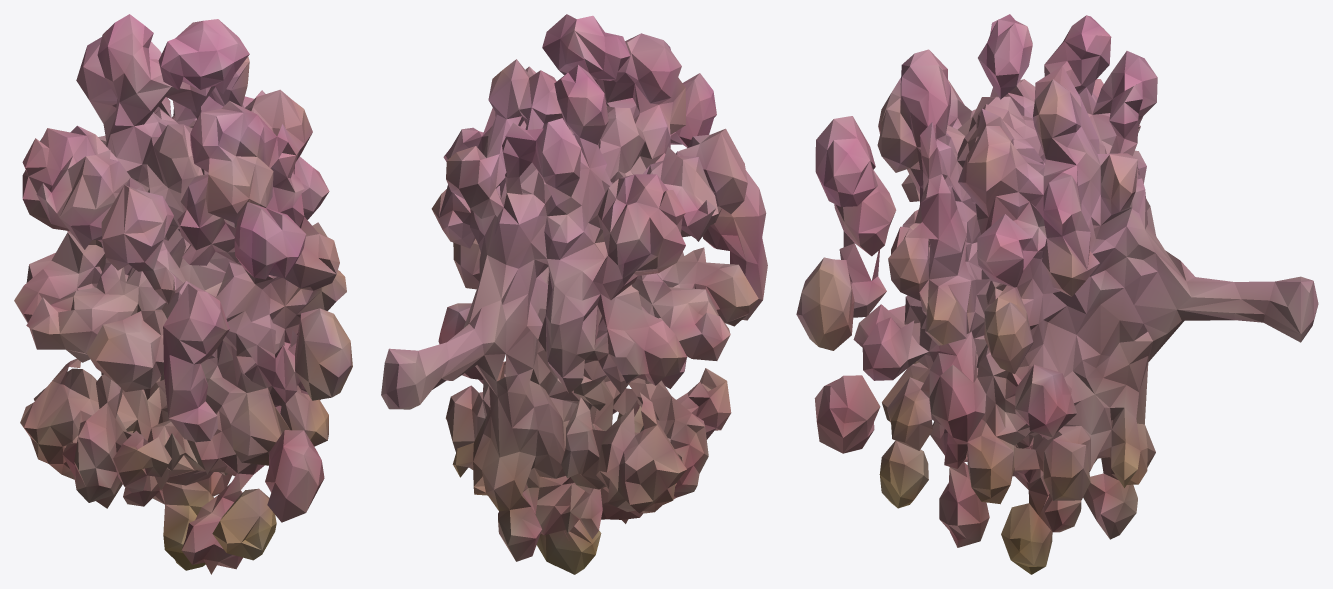
File: blossom_tree.glb
3 renders of one model, left to right at view 1: azimuth 30°, elevation 25°; view 2: azimuth 150°, elevation 25°; view 3: azimuth 270°, elevation 25°, orthographic.
Parts seen in each view (by area): view 1: world; view 2: world; view 3: world.
Part boxes in pixels (x1,y1,x2,y2): world: (14, 14, 352, 574); world: (381, 14, 767, 574); world: (796, 14, 1318, 574).
Bounding box in the file's own units: 4.76 × 8.7 × 7.53.
